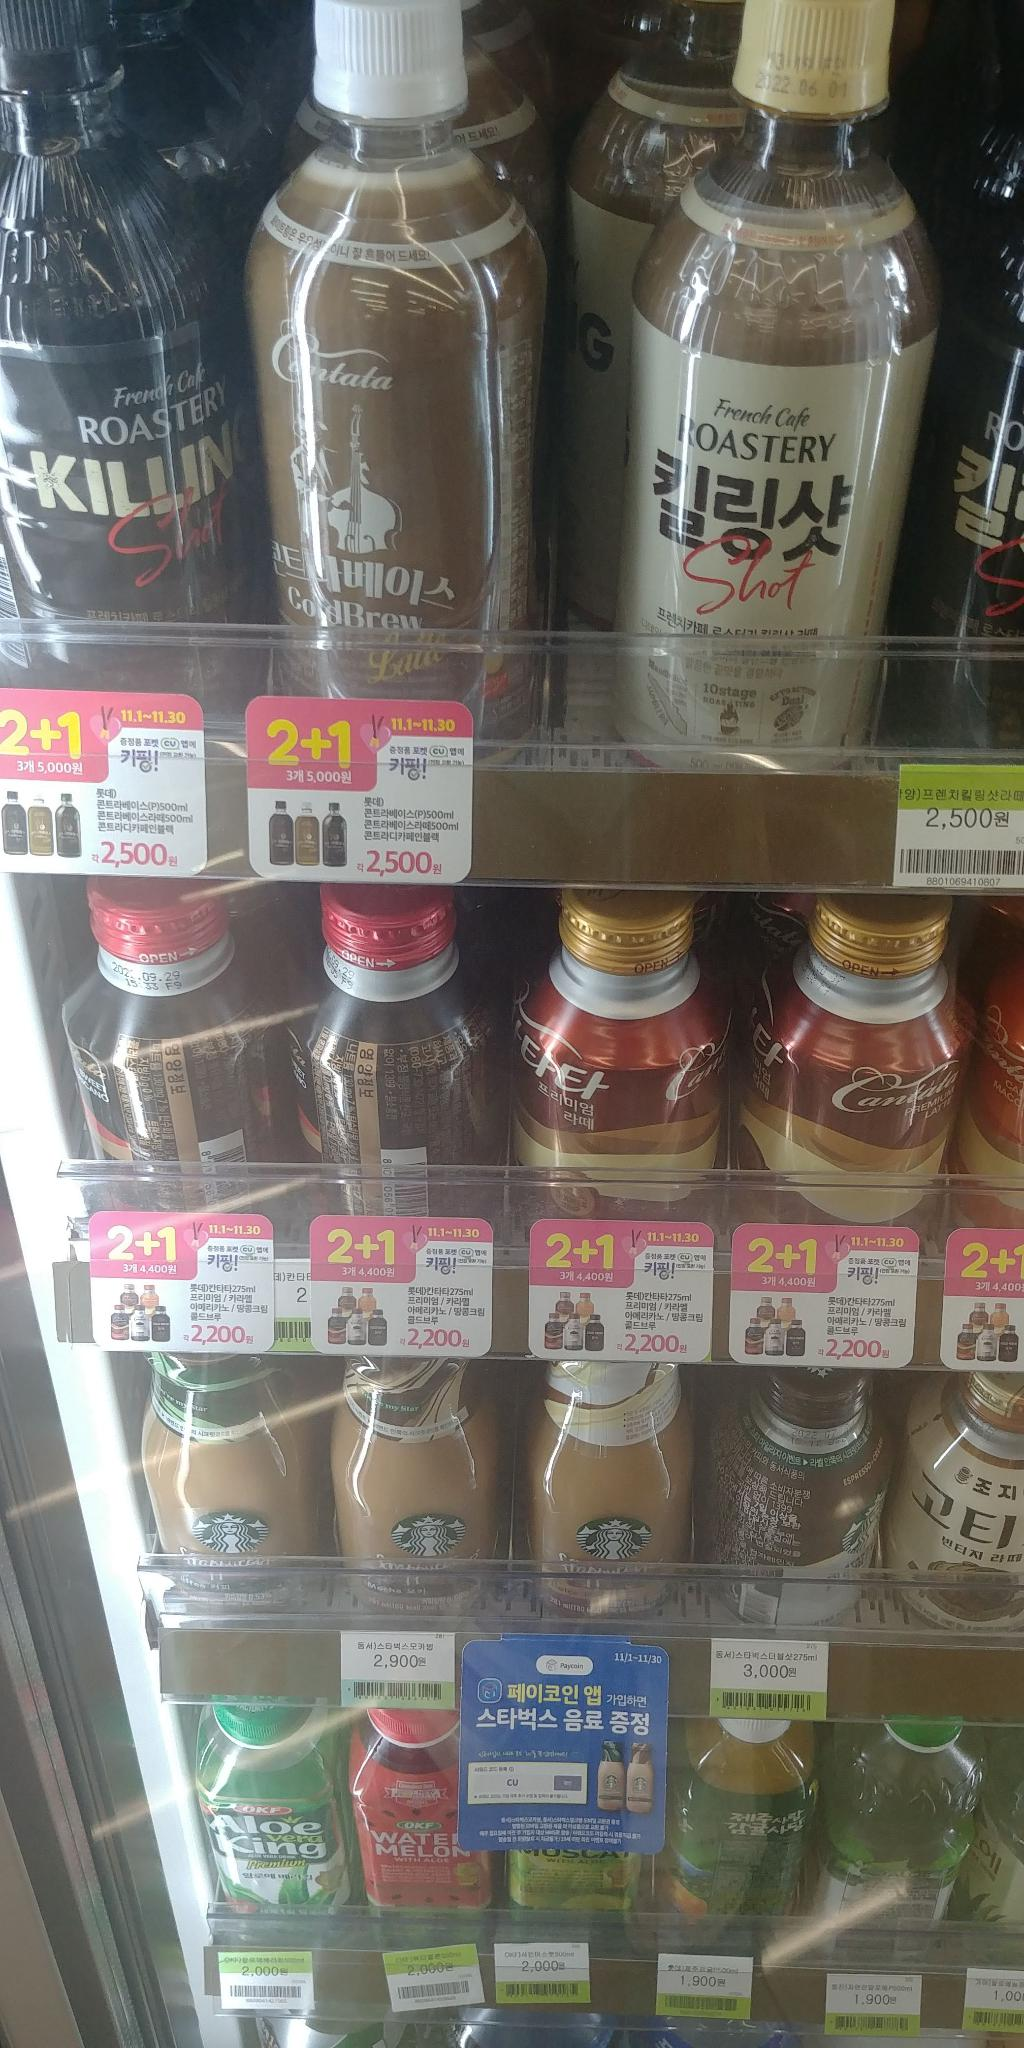TOP_black: (50, 859, 266, 1256), (294, 871, 502, 1256)
